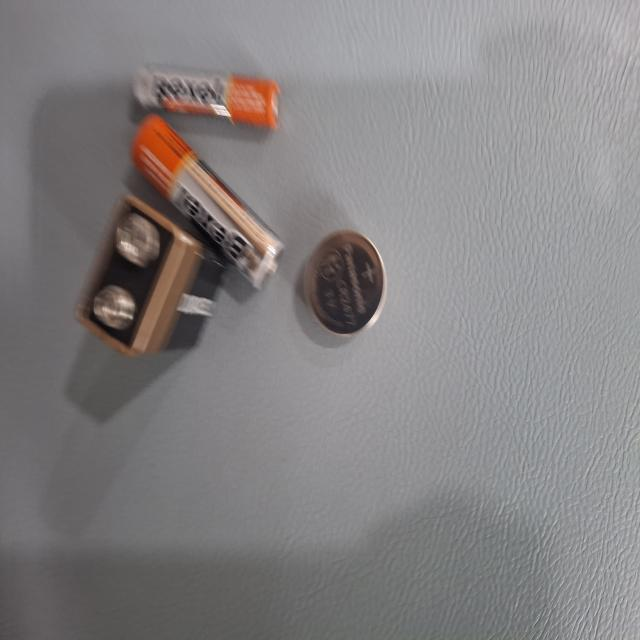9V: (146, 552, 267, 640)
AA: (85, 475, 216, 640)
AAA: (47, 478, 97, 640)
COIN: (170, 336, 254, 449)
